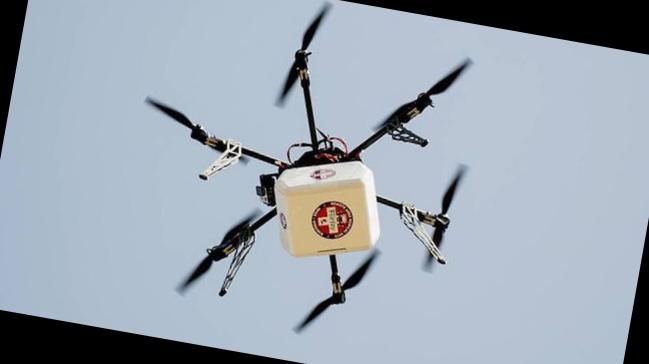drone: (117, 0, 500, 352)
